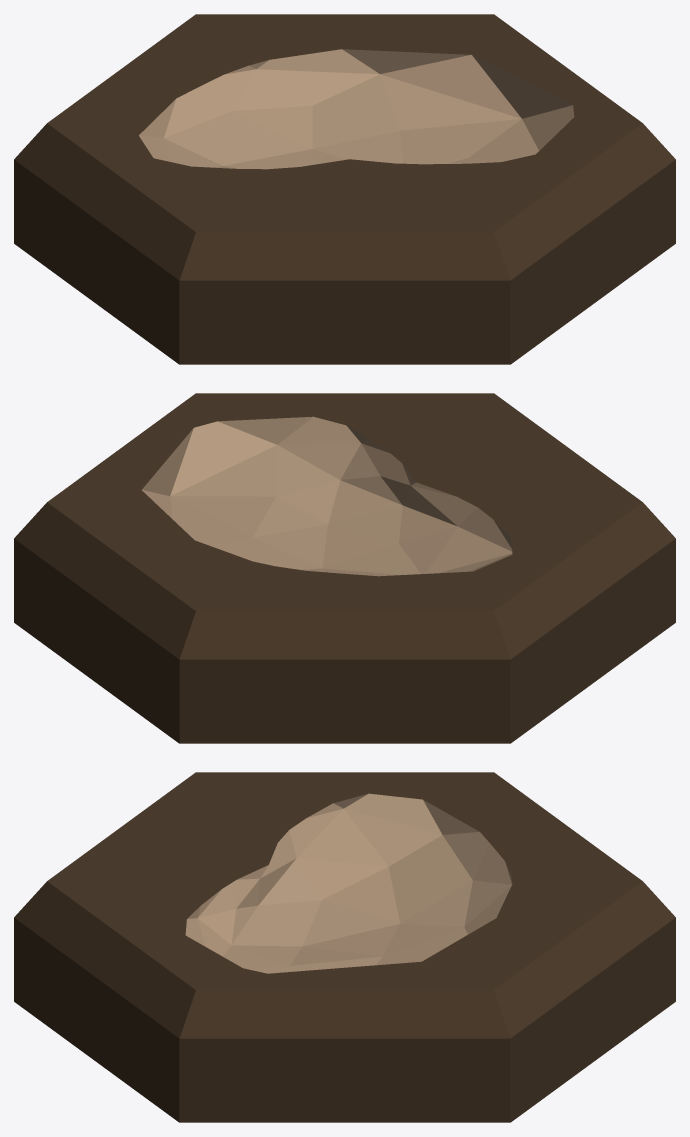
The model's file is Rune Brain.fbx.
3 renders of one model, top to bottom at view 1: azimuth 30°, elevation 25°; view 2: azimuth 150°, elevation 25°; view 3: azimuth 270°, elevation 25°, orthographic.
Visible parts, largest first — view 1: Rune Brain; view 2: Rune Brain; view 3: Rune Brain.
Boxes of the visible parts, x1,y1,x2,y2 form: Rune Brain: (14, 14, 675, 364); Rune Brain: (14, 393, 675, 743); Rune Brain: (14, 772, 675, 1122).
Size of the model in its own units: 42.96 by 9.96 by 49.6.
